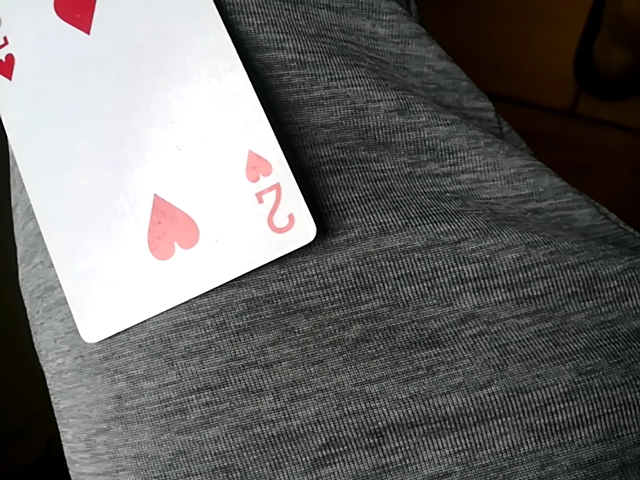hx 2: (0, 2, 321, 347)
